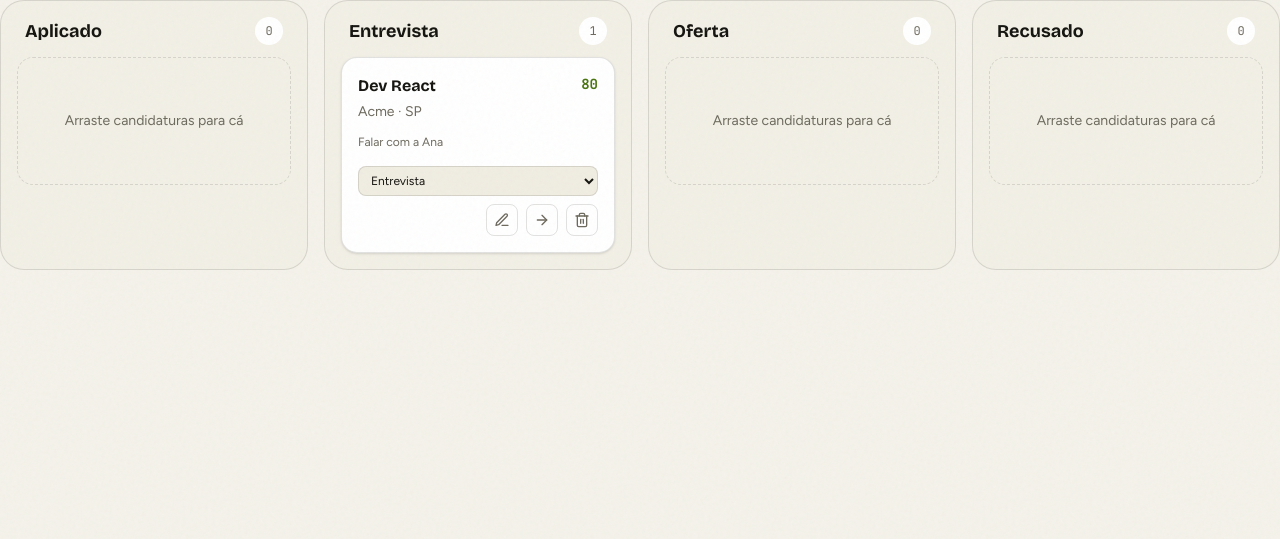
Scenario: ApplicationTracker › salva anotação e data da entrevista
Click the button named "Anotações de Dev React": (502, 220) [486,204,518,236]
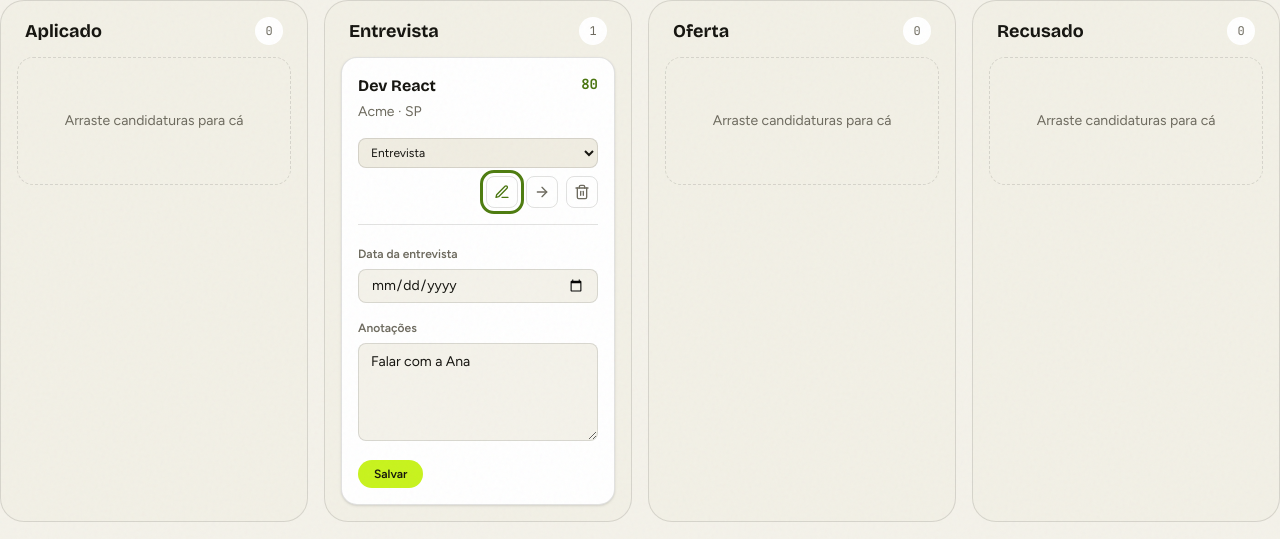
Replace the text in the text box labelled "Anotações" with "Segunda fase na sexta": (478, 392) [358,343,598,441]
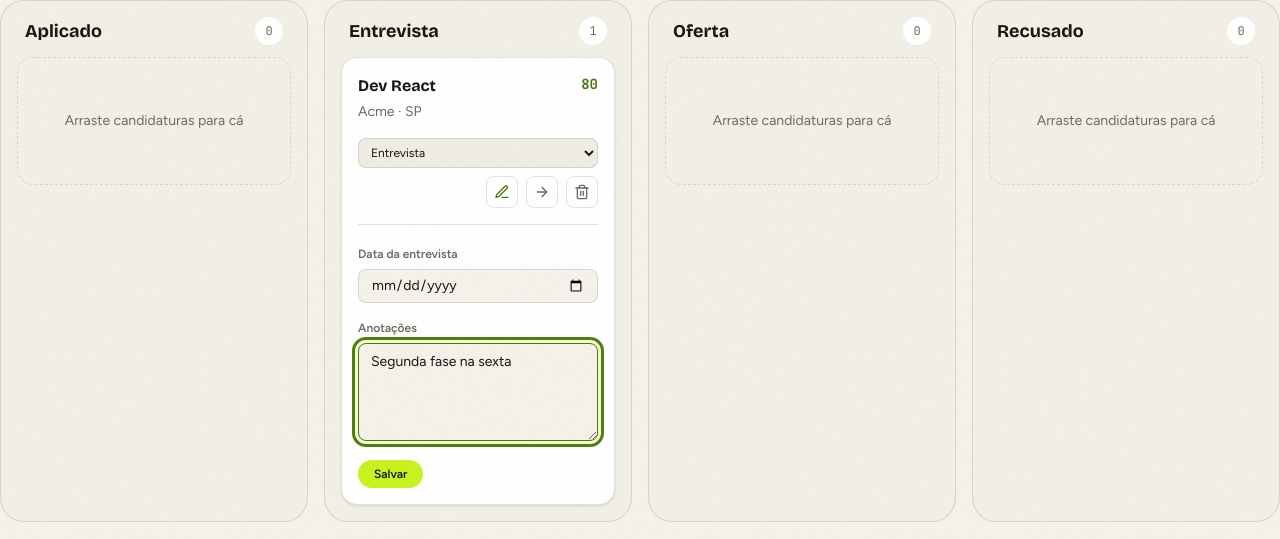
In the date field labelled "Data da entrevista": (478, 286) [358,269,598,303], type "2026-10-20"
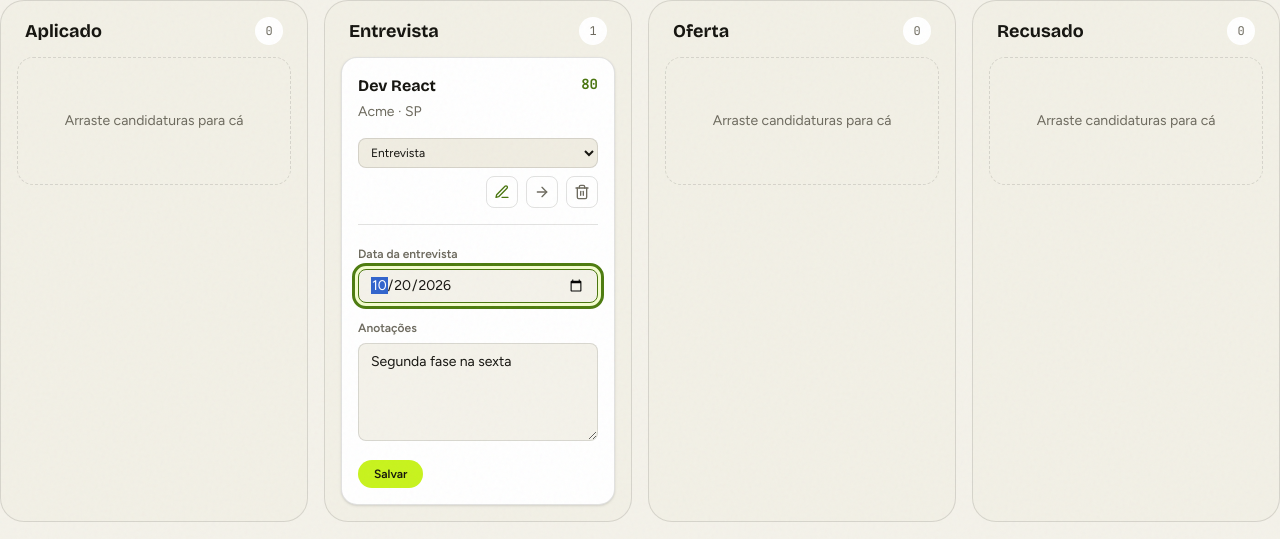
Click the button "Salvar": (391, 474) [358,460,423,488]
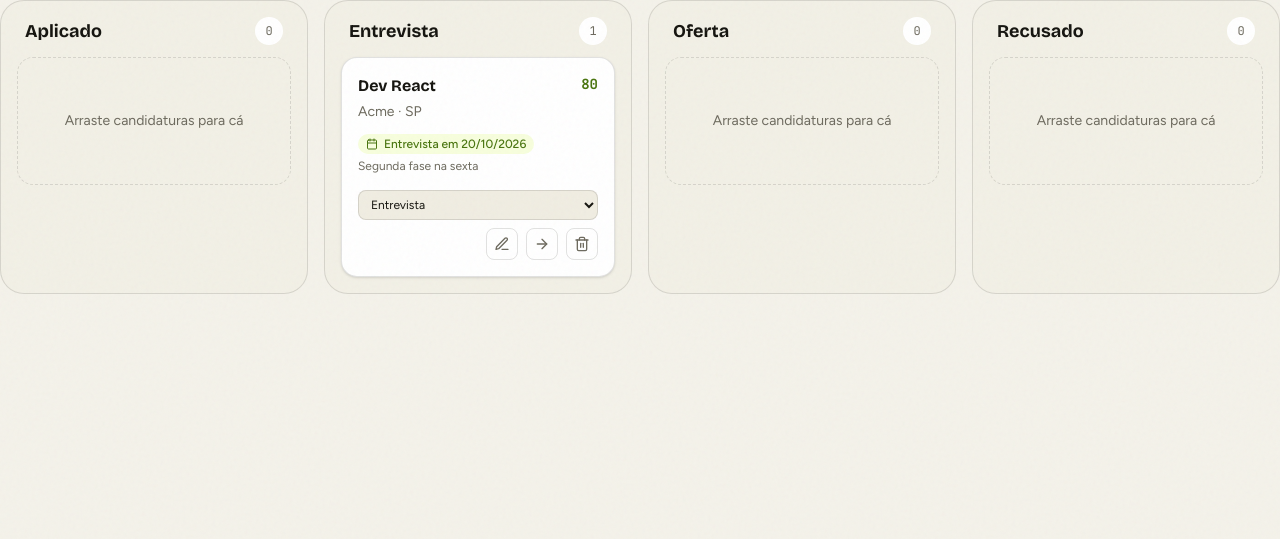
Expected: the text "Entrevista em 20/10/2026" is shown, [358,134,534,154]
